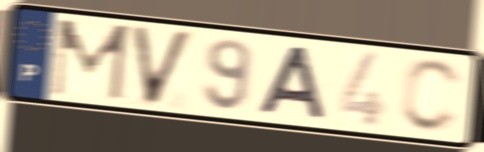4: (338, 49, 387, 130)
9: (200, 37, 255, 113)
A: (255, 44, 329, 123)
C: (398, 56, 465, 136)
M: (48, 17, 133, 104)
V: (127, 22, 198, 110)
